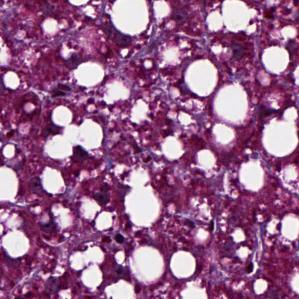steatosis: (185, 62, 221, 98), (172, 248, 201, 279), (75, 58, 106, 86)
